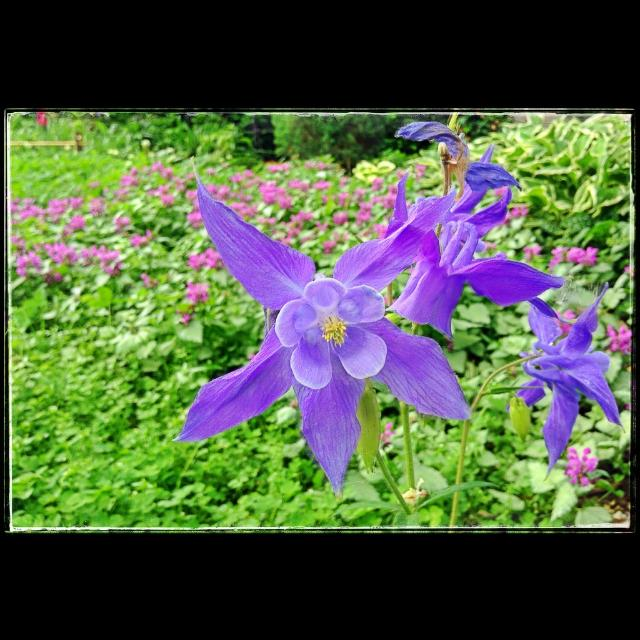Flower: (187, 176, 443, 488), (526, 281, 638, 479), (564, 446, 598, 484), (604, 322, 632, 356), (184, 280, 208, 306)
